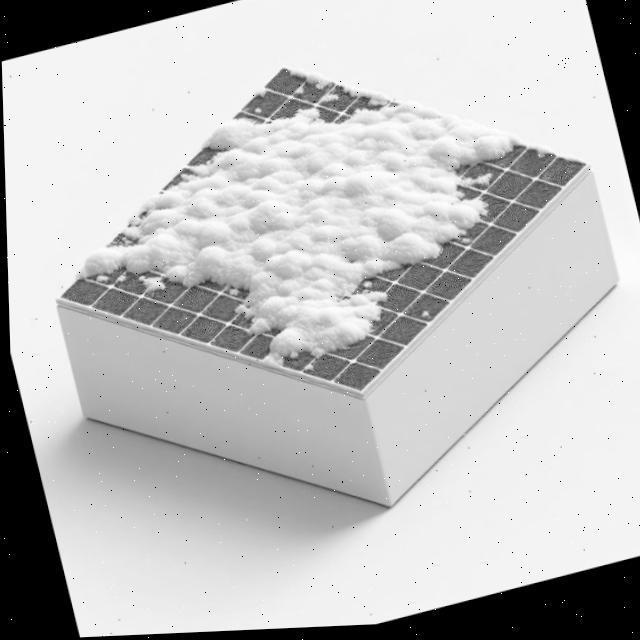Anomaly Solar Panel: (57, 0, 586, 497)
Snow: (73, 0, 590, 480), (339, 82, 390, 111), (287, 65, 330, 94), (319, 90, 341, 112)
